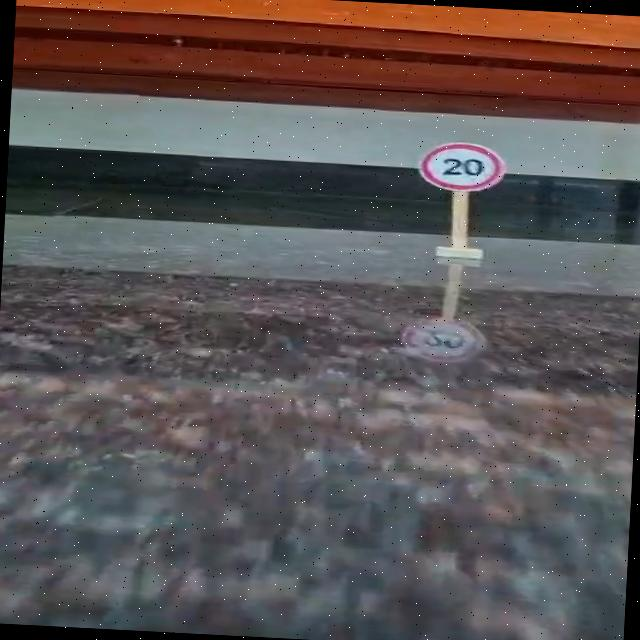Speed20: (410, 133, 513, 199)
